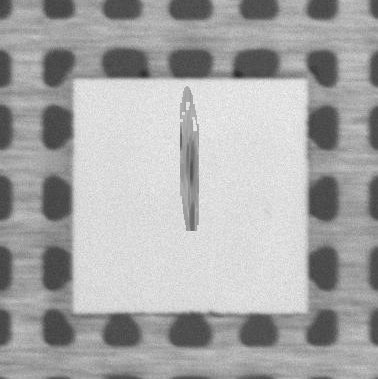DIE_INK: (180, 79, 198, 232)
